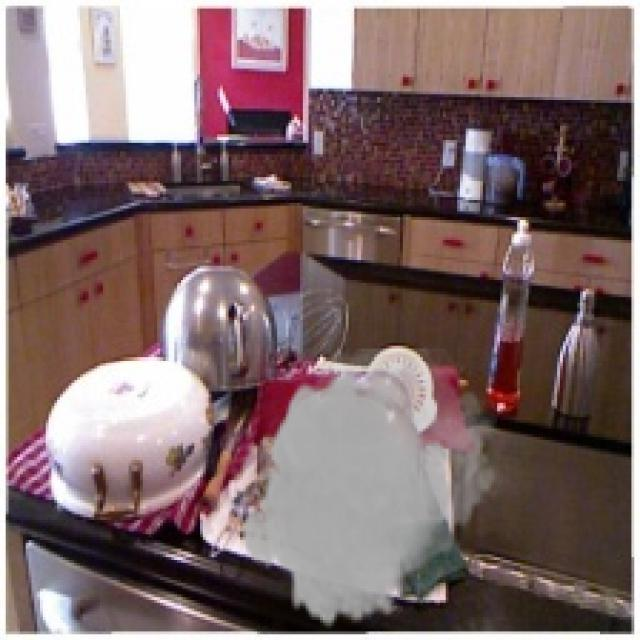Smoke: (240, 348, 506, 632)
